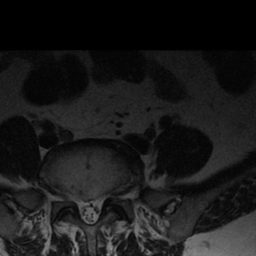CCS_normal: (86, 190, 94, 233)
LFS_stenosis: (103, 184, 111, 209)
LLS_normal: (94, 190, 102, 225)
RFS_stenosis: (68, 184, 77, 211)
RLS_normal: (77, 190, 86, 225)
